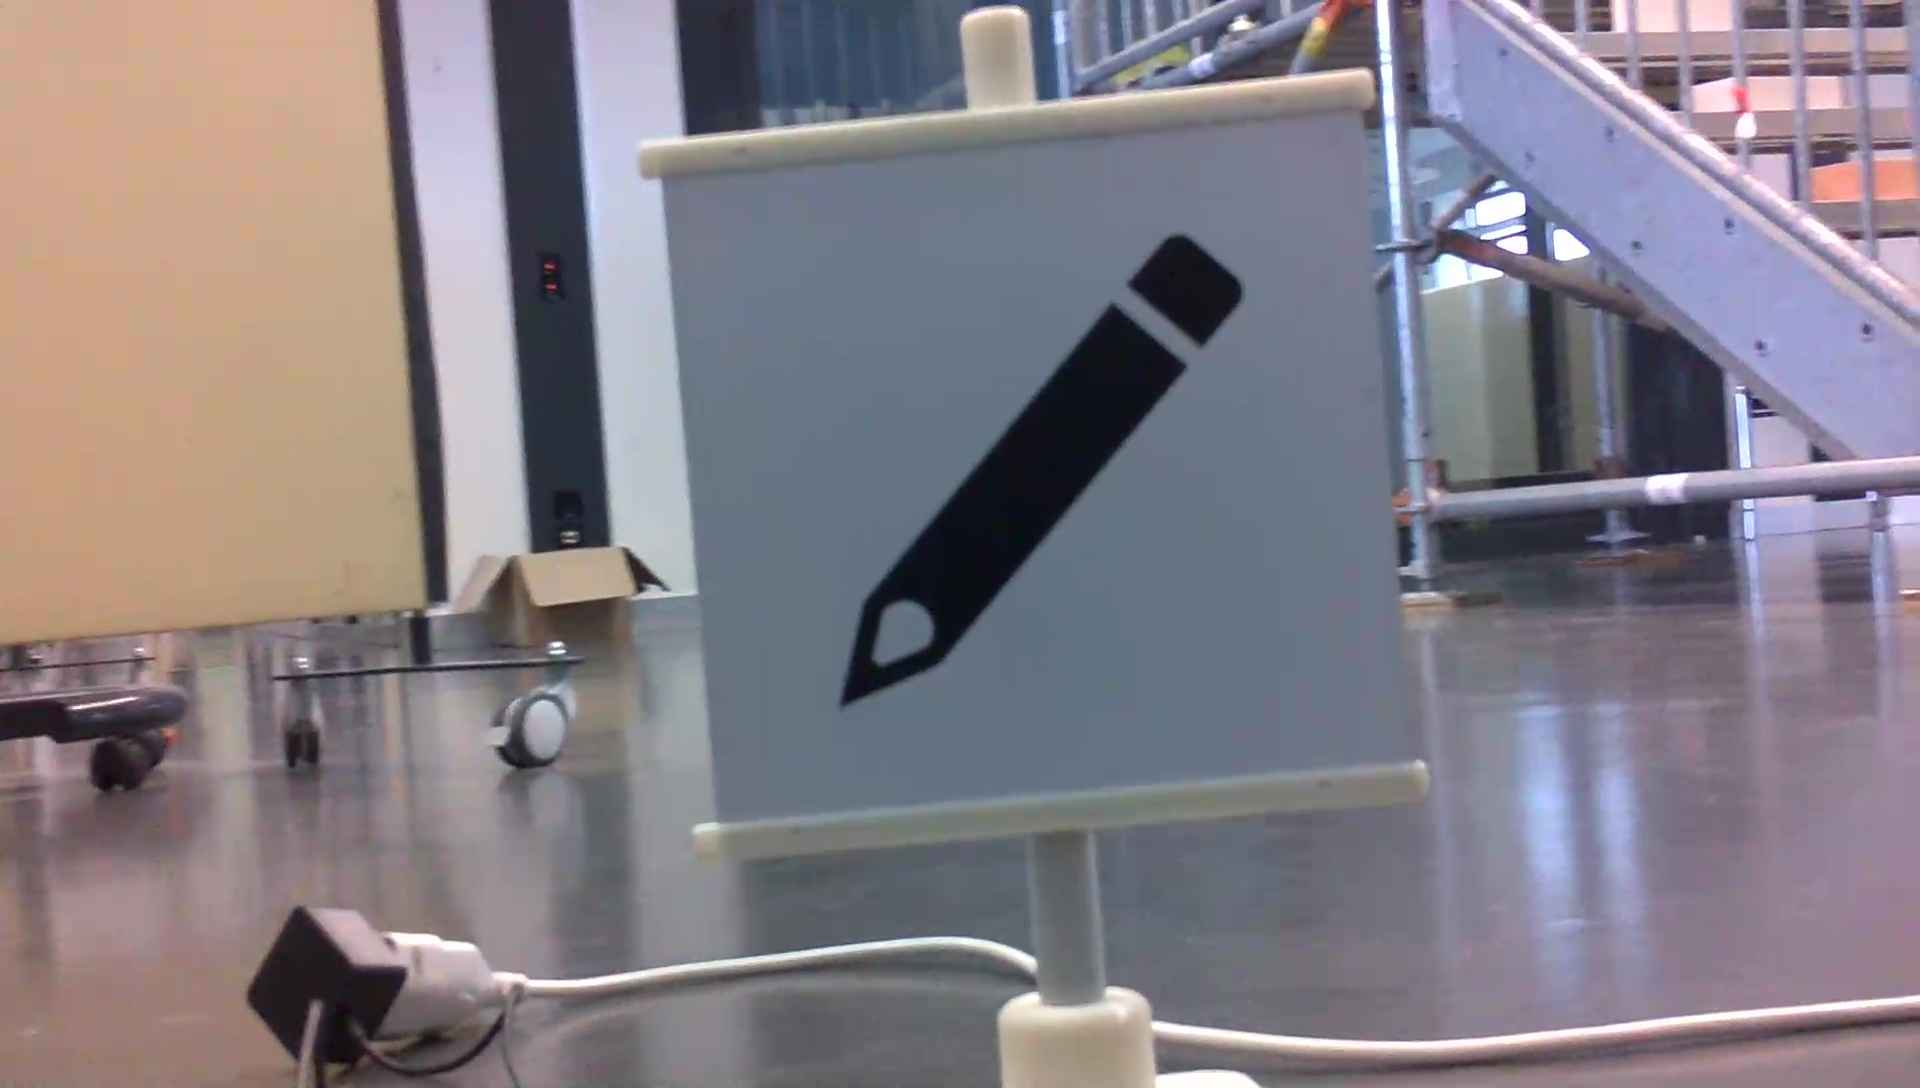pencil: (823, 222, 1255, 720)
